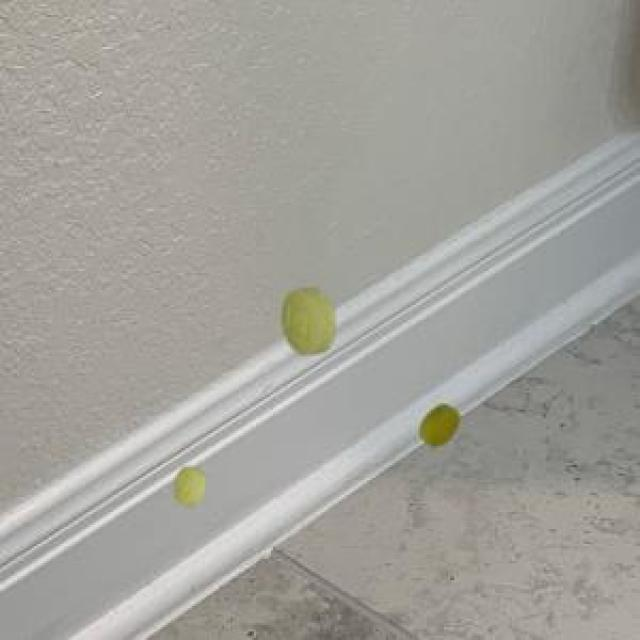Decolgen: (273, 279, 341, 368), (408, 396, 467, 457), (168, 456, 209, 514)
